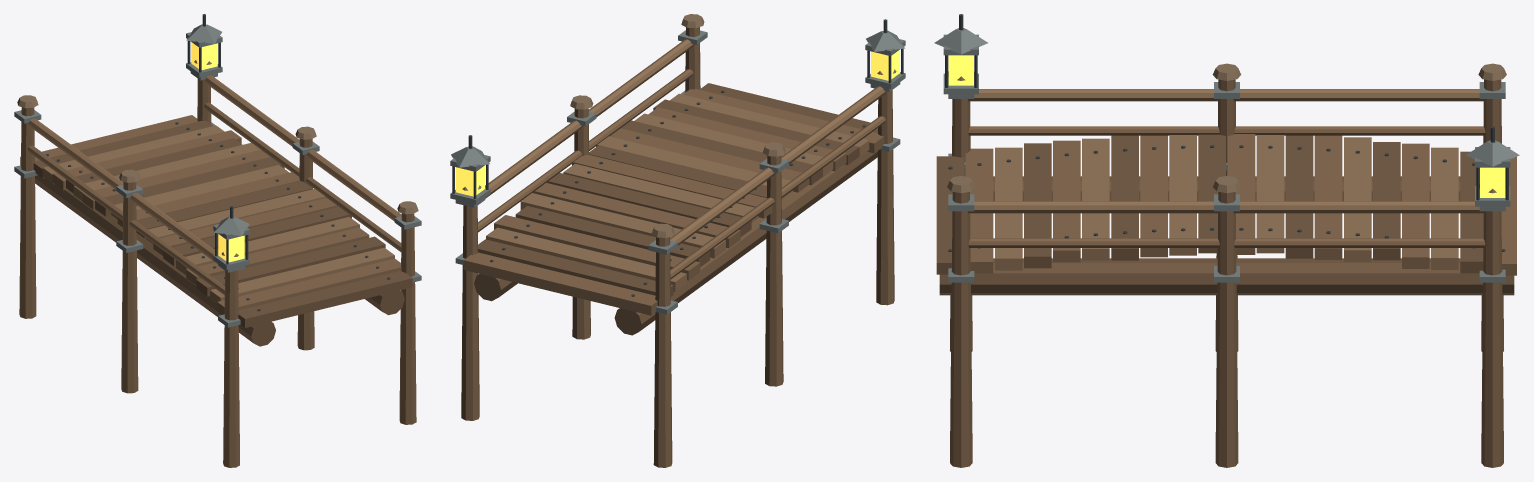
The model's file is source.glb.
The picture shows the model from 3 angles, left to right: view 1: azimuth 30°, elevation 25°; view 2: azimuth 150°, elevation 25°; view 3: azimuth 270°, elevation 25°; orthographic projection. The views are drawn at different scales.
Visible parts, largest first — view 1: Load-bearing trunk, Individual worn deck plank, Octagonal bridge upright.001, Octagonal bridge upright.002, Octagonal bridge upright, Octagonal bridge upright.003, Individual worn deck plank.001, Individual worn deck plank.002, Individual worn deck plank.003, Individual worn deck plank.004, Individual worn deck plank.009, Individual worn deck plank.008 (+28 smaller); view 2: Load-bearing trunk, Individual worn deck plank.019, Octagonal bridge upright.002, Octagonal bridge upright.001, Octagonal bridge upright, Octagonal bridge upright.005, Individual worn deck plank.017, Individual worn deck plank.018, Individual worn deck plank.016, Individual worn deck plank.013, Individual worn deck plank.012, Individual worn deck plank.014 (+28 smaller); view 3: Load-bearing trunk.001, Octagonal bridge upright.003, Octagonal bridge upright.004, Octagonal bridge upright.005, Handrail.001, Handrail.002, Handrail, Handrail.003, Individual worn deck plank.013, Individual worn deck plank.012, Individual worn deck plank.003, Individual worn deck plank.016 (+28 smaller).
Part boxes in pixels (x1=…): Load-bearing trunk: x1=35, y1=175, x2=275, y2=346; Individual worn deck plank: x1=238, y1=270, x2=412, y2=327; Octagonal bridge upright.001: x1=121, y1=181, x2=138, y2=393; Octagonal bridge upright.002: x1=19, y1=107, x2=36, y2=318; Octagonal bridge upright: x1=223, y1=270, x2=239, y2=467; Octagonal bridge upright.003: x1=399, y1=213, x2=416, y2=424; Individual worn deck plank.001: x1=217, y1=258, x2=401, y2=314; Individual worn deck plank.002: x1=210, y1=247, x2=394, y2=303; Individual worn deck plank.003: x1=196, y1=236, x2=385, y2=296; Individual worn deck plank.004: x1=186, y1=227, x2=369, y2=285; Individual worn deck plank.009: x1=136, y1=181, x2=312, y2=238; Individual worn deck plank.008: x1=146, y1=189, x2=325, y2=243; Load-bearing trunk: x1=614, y1=151, x2=877, y2=335; Individual worn deck plank.019: x1=463, y1=252, x2=657, y2=315; Octagonal bridge upright.002: x1=653, y1=237, x2=672, y2=467; Octagonal bridge upright.001: x1=765, y1=155, x2=783, y2=386; Octagonal bridge upright: x1=876, y1=90, x2=894, y2=305; Octagonal bridge upright.005: x1=461, y1=205, x2=479, y2=420; Individual worn deck plank.017: x1=486, y1=227, x2=686, y2=291; Individual worn deck plank.018: x1=478, y1=239, x2=673, y2=296; Individual worn deck plank.016: x1=494, y1=215, x2=700, y2=280; Individual worn deck plank.013: x1=533, y1=182, x2=740, y2=248; Individual worn deck plank.012: x1=546, y1=173, x2=751, y2=236; Individual worn deck plank.014: x1=520, y1=193, x2=725, y2=258; Load-bearing trunk.001: x1=939, y1=258, x2=1514, y2=295; Octagonal bridge upright.003: x1=950, y1=192, x2=972, y2=467; Octagonal bridge upright.004: x1=1215, y1=192, x2=1238, y2=467; Octagonal bridge upright.005: x1=1481, y1=211, x2=1503, y2=467; Handrail.001: x1=1233, y1=89, x2=1485, y2=101; Handrail.002: x1=968, y1=201, x2=1220, y2=213; Handrail: x1=968, y1=89, x2=1220, y2=101; Handrail.003: x1=1233, y1=201, x2=1485, y2=213; Individual worn deck plank.013: x1=1314, y1=135, x2=1342, y2=259; Individual worn deck plank.012: x1=1285, y1=135, x2=1313, y2=258; Individual worn deck plank.003: x1=1024, y1=143, x2=1051, y2=268; Individual worn deck plank.016: x1=1402, y1=143, x2=1429, y2=268.
Size of the model in its own units: 4.46 by 5.16 by 8.16.
